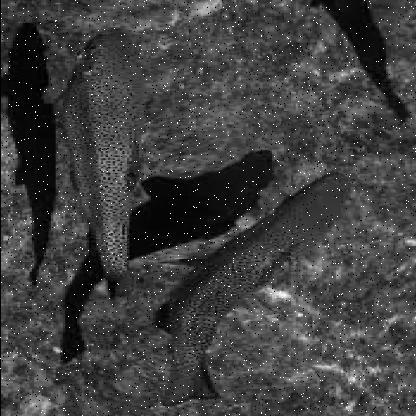fish: (151, 169, 359, 408), (36, 25, 152, 302)
